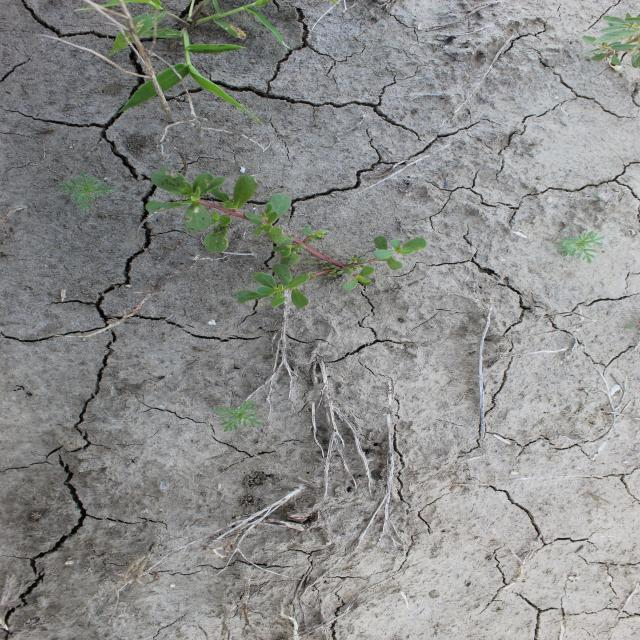Purslane: (144, 166, 429, 311)
Ragweed: (56, 172, 117, 213), (211, 397, 266, 434), (552, 229, 607, 265)
Waterhemp: (579, 10, 639, 70)
